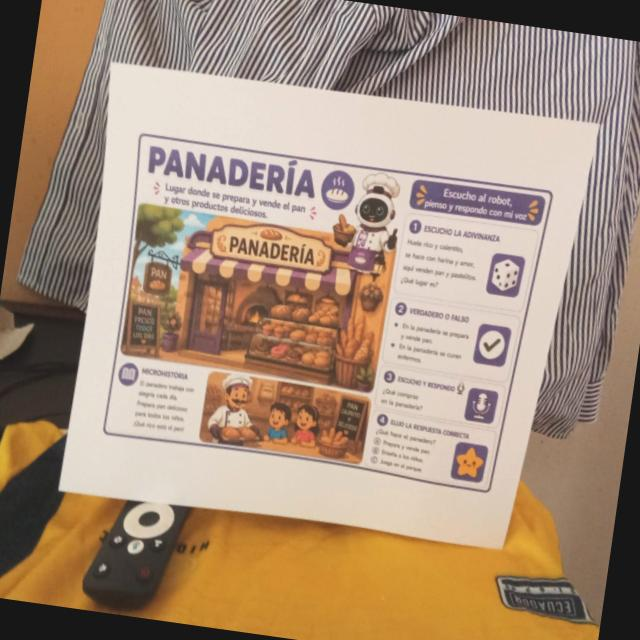panaderia: (91, 126, 558, 504)
